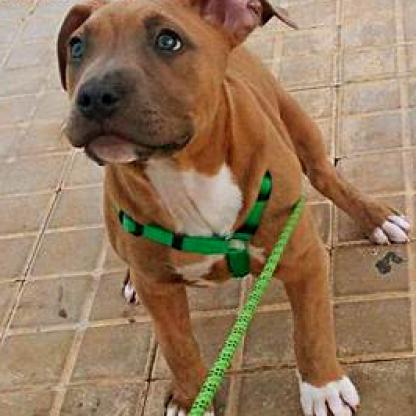dog: (57, 0, 407, 415)
